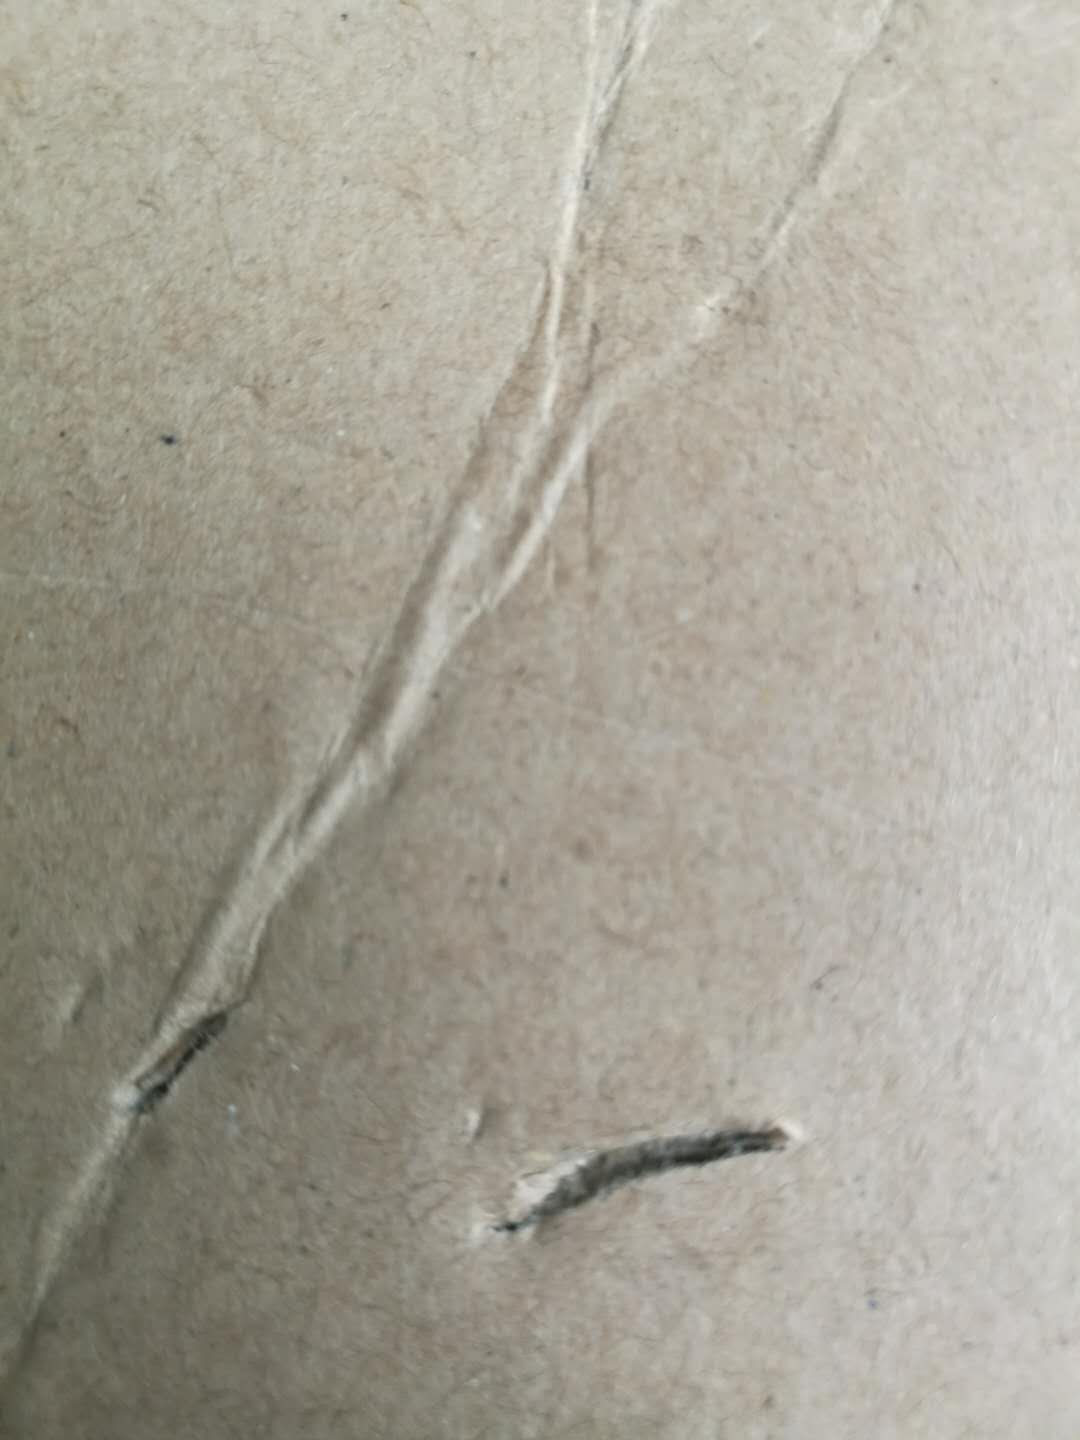defect: (3, 1, 1054, 1378), (411, 1054, 834, 1272)
